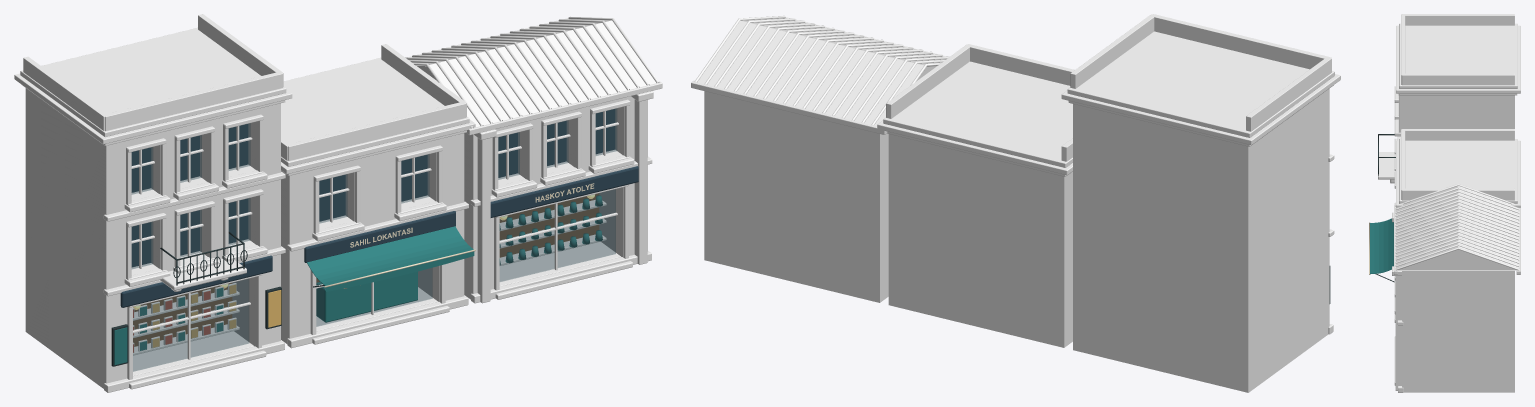
File: DistrictBlock_6_2.glb
The picture shows the model from 3 angles, left to right: view 1: azimuth 30°, elevation 25°; view 2: azimuth 150°, elevation 25°; view 3: azimuth 270°, elevation 25°; orthographic projection. The views are drawn at different scales.
Parts seen in each view (by area): view 1: RK_DistrictBlock_6_2_LC_Lime, RK_DistrictBlock_6_2_LC_Glass, RK_DistrictBlock_6_2_LC_Coral, RK_DistrictBlock_6_2_LC_Tile, RK_DistrictBlock_6_2_LC_Ink, RK_DistrictBlock_6_2_LC_Wood, RK_DistrictBlock_6_2_LC_Teal, RK_DistrictBlock_6_2_LC_Brick, RK_DistrictBlock_6_2_LC_Interior, RK_DistrictBlock_6_2_LC_Iron, RK_DistrictBlock_6_2_LC_Gold, RK_DistrictBlock_6_2_LC_Canvas; view 2: RK_DistrictBlock_6_2_LC_Lime, RK_DistrictBlock_6_2_LC_Coral, RK_DistrictBlock_6_2_LC_Brick, RK_DistrictBlock_6_2_LC_Tile, RK_DistrictBlock_6_2_LC_Wood; view 3: RK_DistrictBlock_6_2_LC_Lime, RK_DistrictBlock_6_2_LC_Brick, RK_DistrictBlock_6_2_LC_Tile, RK_DistrictBlock_6_2_LC_Coral, RK_DistrictBlock_6_2_LC_Teal, RK_DistrictBlock_6_2_LC_Wood.
Boxes of the visible parts, left/top/right/bottom form: RK_DistrictBlock_6_2_LC_Lime: left=14, top=14, right=653, bottom=392; RK_DistrictBlock_6_2_LC_Glass: left=132, top=108, right=616, bottom=371; RK_DistrictBlock_6_2_LC_Coral: left=281, top=44, right=466, bottom=343; RK_DistrictBlock_6_2_LC_Tile: left=405, top=16, right=659, bottom=128; RK_DistrictBlock_6_2_LC_Ink: left=120, top=109, right=638, bottom=307; RK_DistrictBlock_6_2_LC_Wood: left=131, top=18, right=662, bottom=375; RK_DistrictBlock_6_2_LC_Teal: left=114, top=195, right=602, bottom=364; RK_DistrictBlock_6_2_LC_Brick: left=464, top=96, right=647, bottom=299; RK_DistrictBlock_6_2_LC_Interior: left=133, top=193, right=599, bottom=346; RK_DistrictBlock_6_2_LC_Iron: left=111, top=232, right=324, bottom=366; RK_DistrictBlock_6_2_LC_Gold: left=152, top=284, right=281, bottom=347; RK_DistrictBlock_6_2_LC_Canvas: left=324, top=183, right=594, bottom=288; RK_DistrictBlock_6_2_LC_Lime: left=877, top=14, right=1340, bottom=392; RK_DistrictBlock_6_2_LC_Coral: left=886, top=44, right=1074, bottom=347; RK_DistrictBlock_6_2_LC_Brick: left=704, top=91, right=888, bottom=302; RK_DistrictBlock_6_2_LC_Tile: left=694, top=16, right=949, bottom=126; RK_DistrictBlock_6_2_LC_Wood: left=691, top=17, right=946, bottom=134; RK_DistrictBlock_6_2_LC_Lime: left=1378, top=14, right=1520, bottom=392; RK_DistrictBlock_6_2_LC_Brick: left=1402, top=270, right=1514, bottom=392; RK_DistrictBlock_6_2_LC_Tile: left=1395, top=184, right=1519, bottom=270; RK_DistrictBlock_6_2_LC_Coral: left=1401, top=129, right=1514, bottom=200; RK_DistrictBlock_6_2_LC_Teal: left=1370, top=218, right=1393, bottom=274; RK_DistrictBlock_6_2_LC_Wood: left=1394, top=205, right=1520, bottom=274.
Size of the model in its own units: 19.17 by 9.02 by 6.44.
